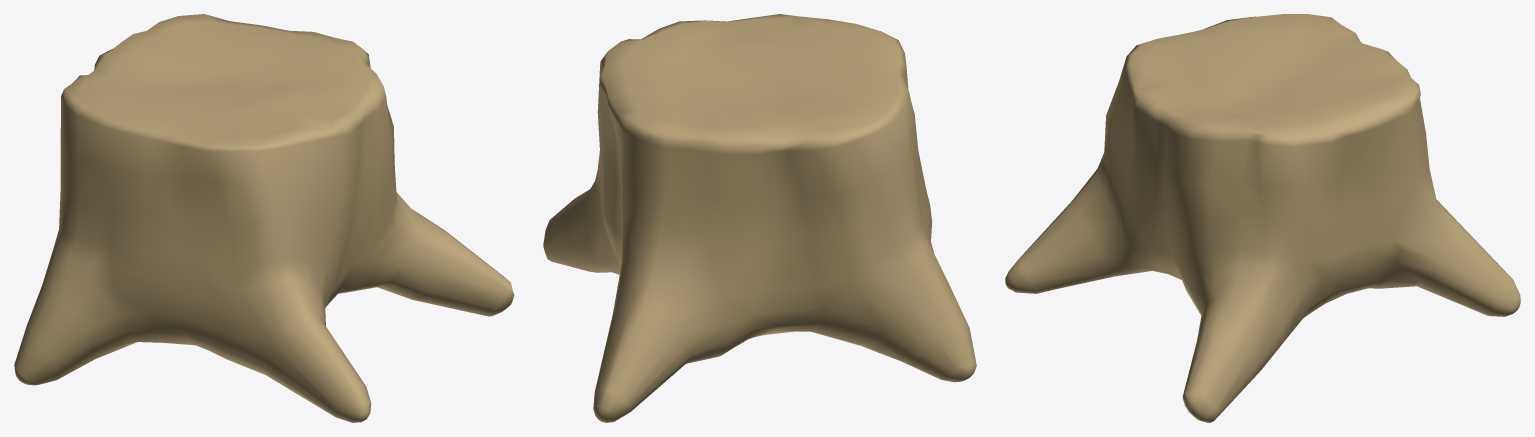
The model's file is SM_Stump_Unity.fbx.
3 views of the same model, side by side, from view 1: azimuth 30°, elevation 25°; view 2: azimuth 150°, elevation 25°; view 3: azimuth 270°, elevation 25° (orthographic). The views are drawn at different scales.
Visible parts, largest first — view 1: SM_Stump; view 2: SM_Stump; view 3: SM_Stump.
Part boxes in pixels (x1,y1,x2,y2): SM_Stump: (14,14,514,422); SM_Stump: (543,14,976,422); SM_Stump: (1005,14,1520,422).
Bounding box in the file's own units: 1.3 × 0.7214 × 1.37.
